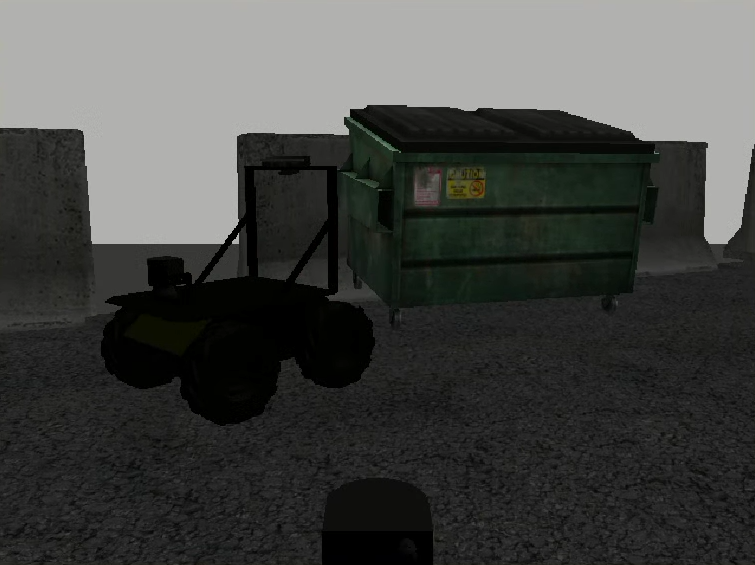husky: (100, 276, 377, 426)
